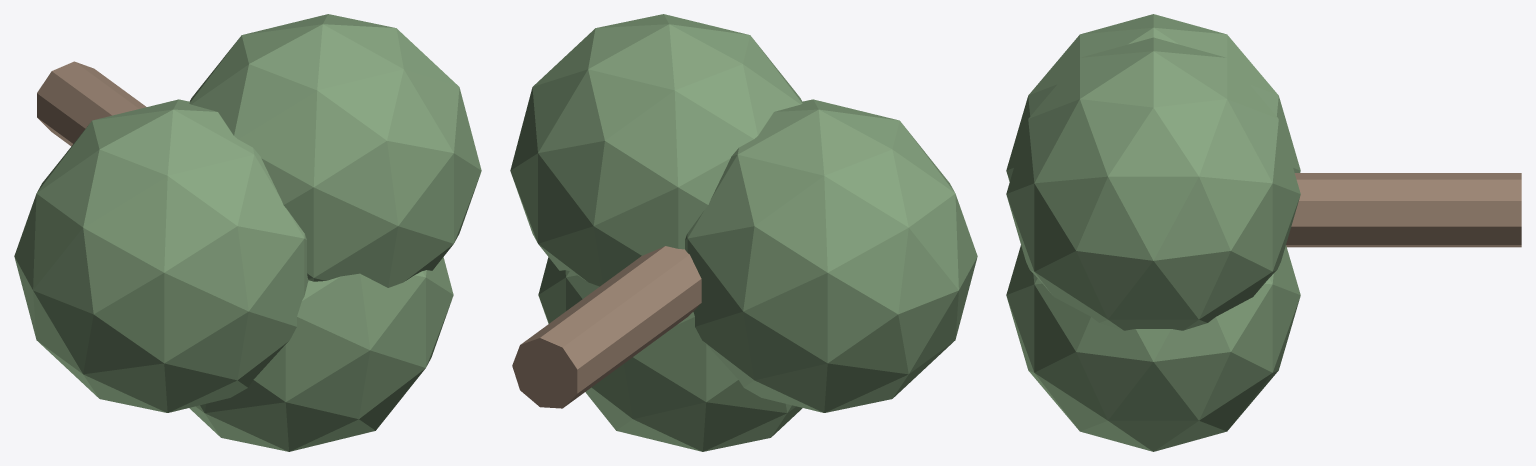
File: oak_tree.glb
3 renders of one model, left to right at view 1: azimuth 30°, elevation 25°; view 2: azimuth 150°, elevation 25°; view 3: azimuth 270°, elevation 25°, orthographic. The views are drawn at different scales.
Parts seen in each view (by area): view 1: world; view 2: world; view 3: world.
Boxes of the visible parts, bbox=[...] form: world: bbox=[14, 14, 481, 451]; world: bbox=[510, 14, 977, 451]; world: bbox=[1006, 14, 1521, 451].
Bounding box in the file's own units: 2.3 × 2.1 × 2.45.
